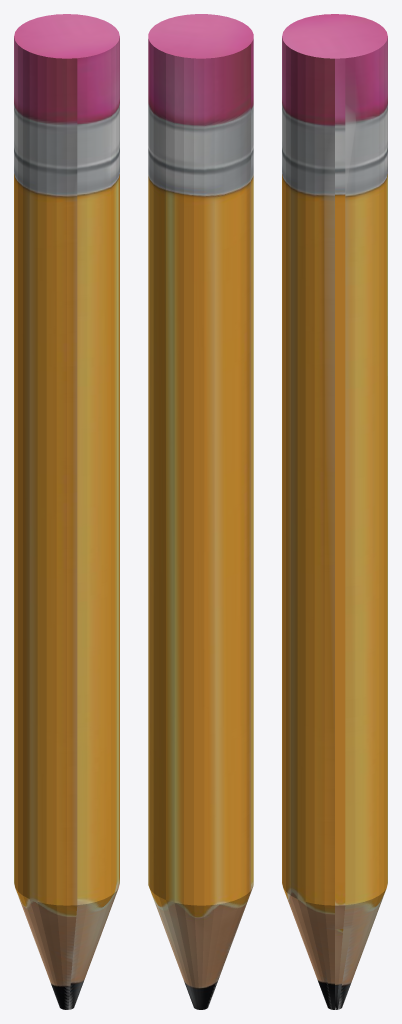
File: Pencil.fbx
The picture shows the model from 3 angles, left to right: view 1: azimuth 90°, elevation 25°; view 2: azimuth 150°, elevation 25°; view 3: azimuth 270°, elevation 25°; orthographic projection.
Parts seen in each view (by area): view 1: pencil; view 2: pencil; view 3: pencil.
Boxes of the visible parts, x1,y1,x2,y2 form: pencil: (14,14,119,1009); pencil: (148,14,253,1009); pencil: (282,14,387,1009).
Bounding box in the file's own units: 200 × 2024 × 200.
1 material, 1 textured.
